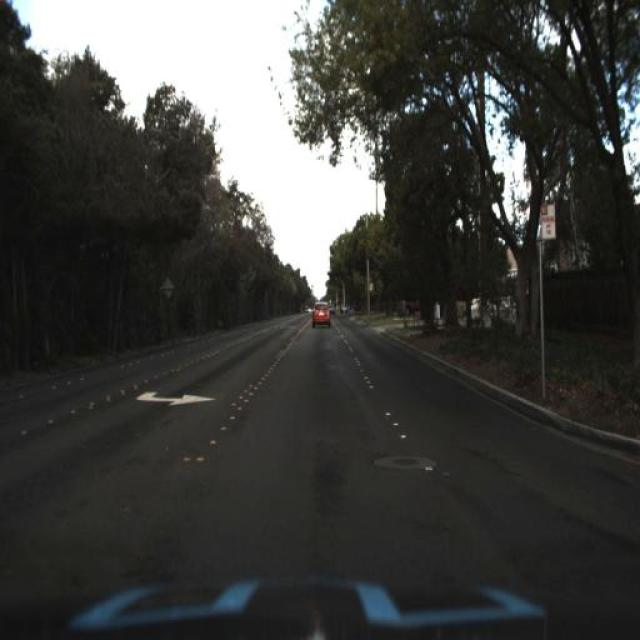car: (307, 292, 333, 336)
